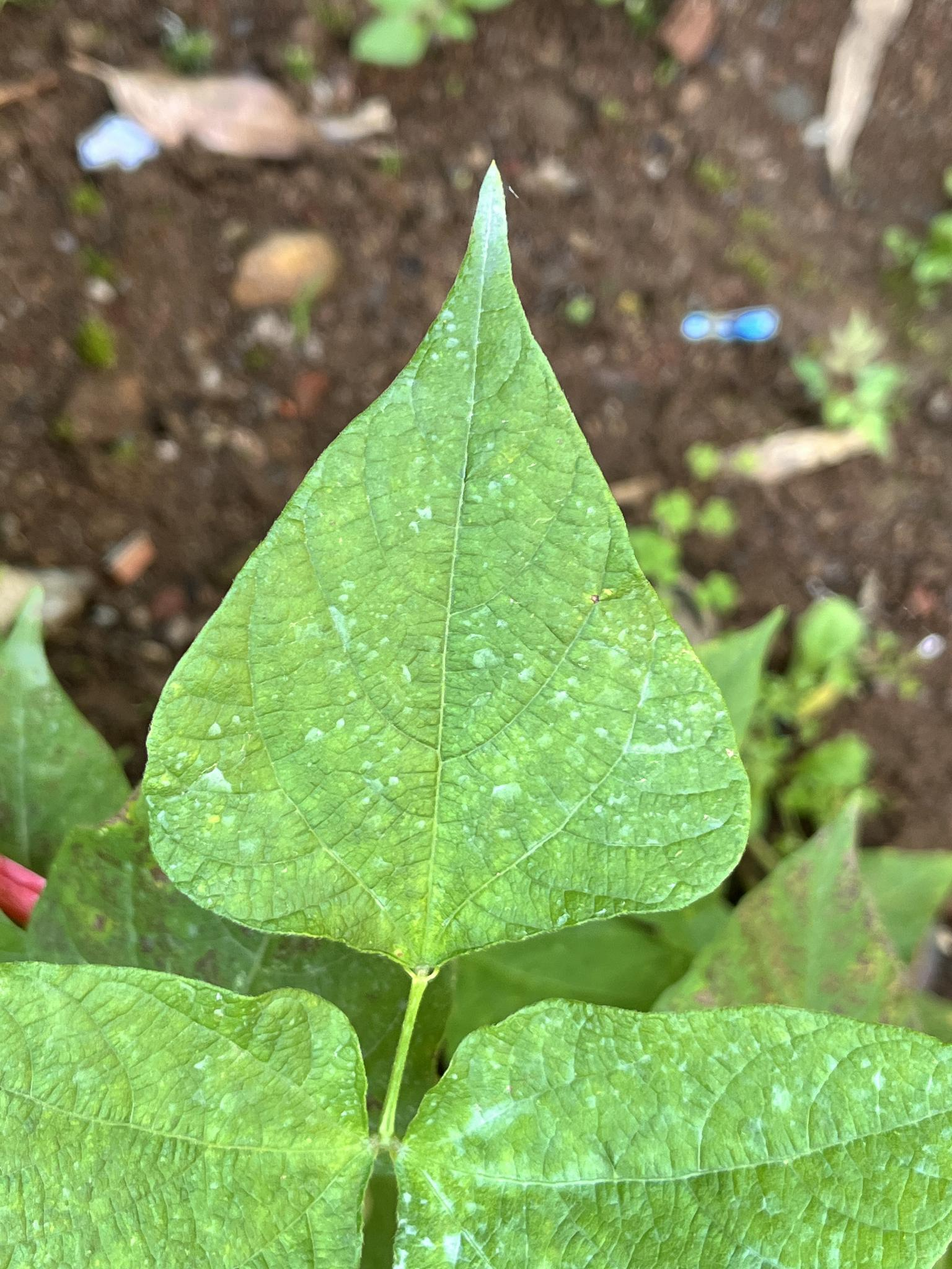embun tepung: (441, 583, 734, 879), (459, 163, 519, 294)
